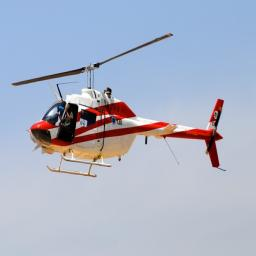helicopter: (10, 29, 238, 189)
